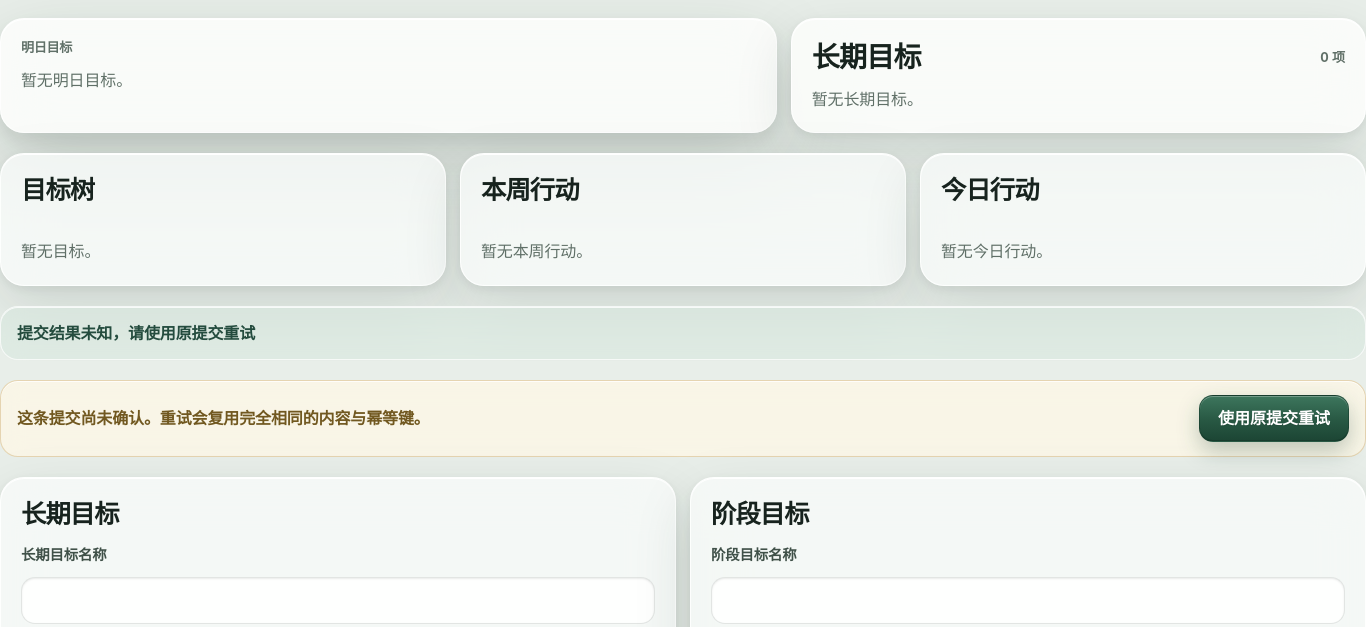
it: PlanningWorkspace › confirms an old skipped action when the returned snapshot no longer contains it
Click the button "使用原提交重试" at (1274, 419), box [1199, 395, 1349, 442]
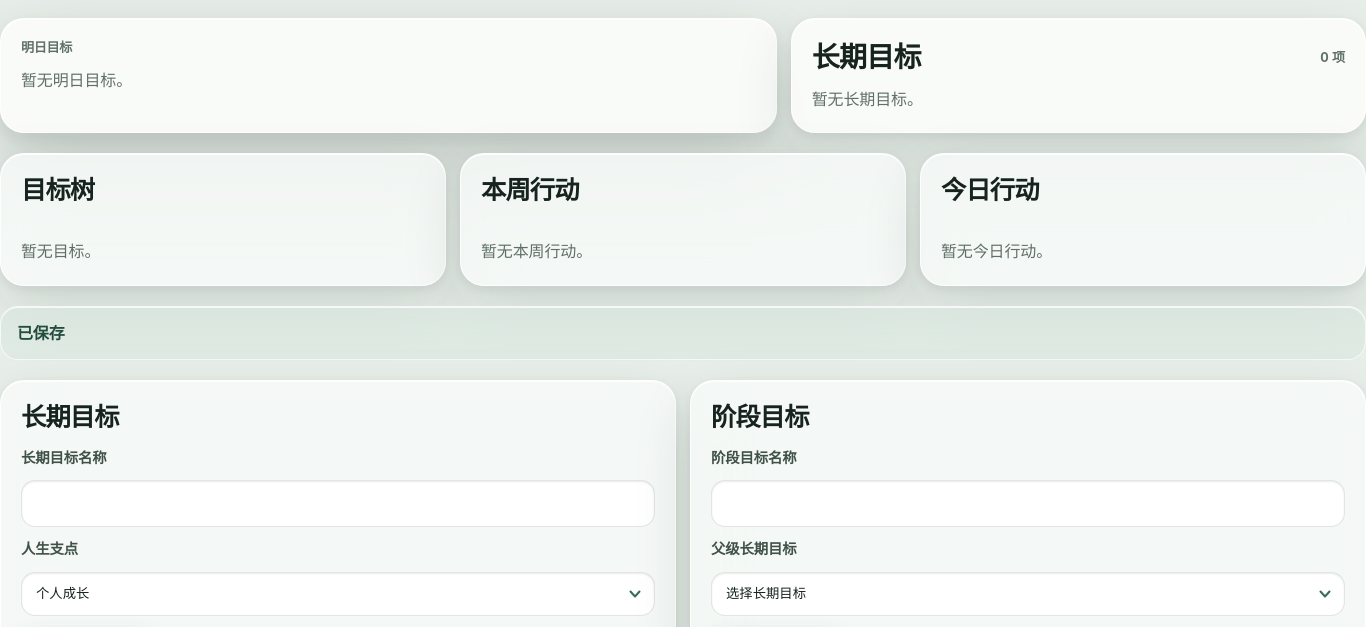
Expected: the message "使用原提交重试" is gone
Expected: the message reads "已保存", [17, 323, 65, 343]
